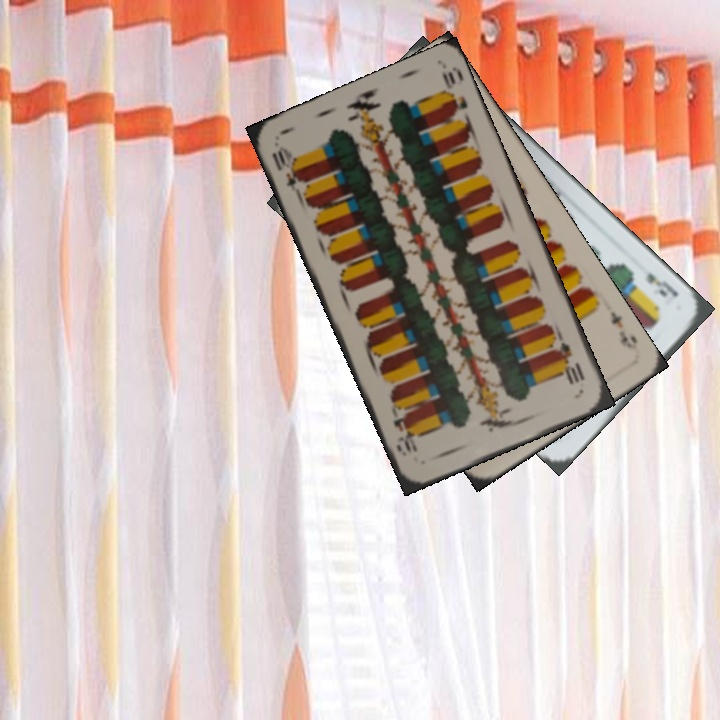E10: (267, 142, 306, 197), (552, 338, 588, 387)
E9: (606, 307, 641, 353)
EK: (642, 268, 681, 300)
